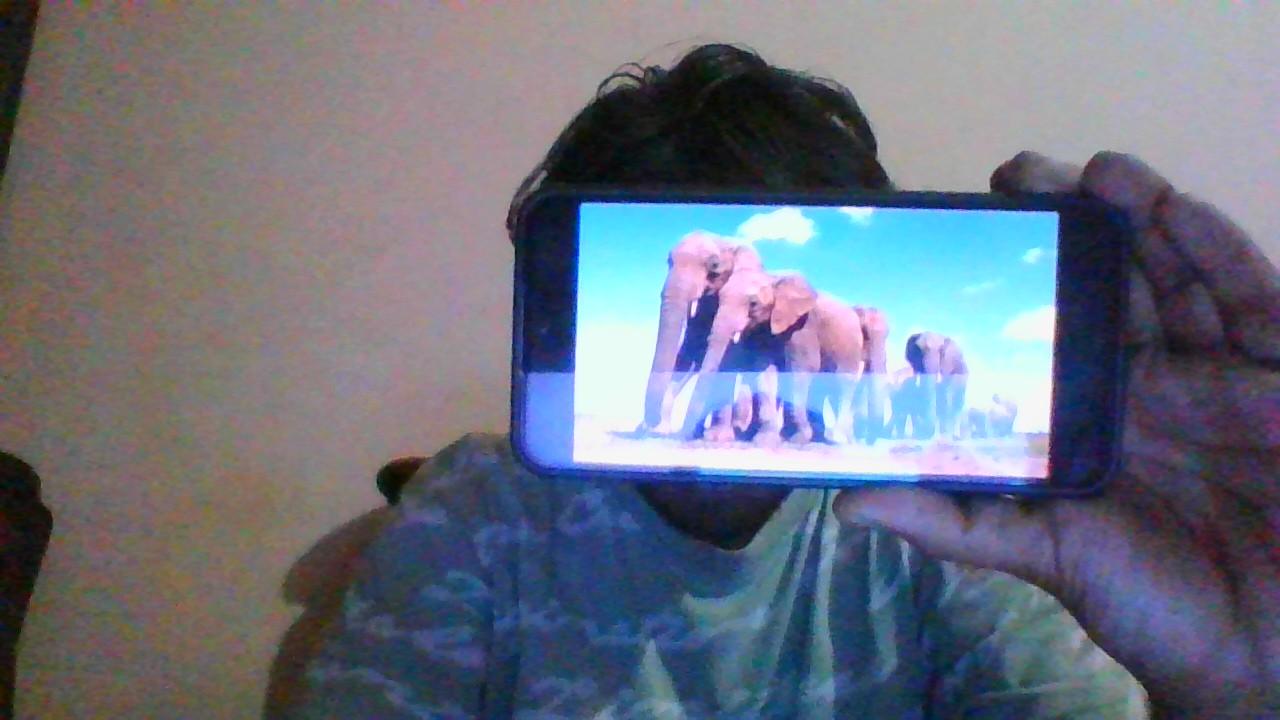elephant: (683, 270, 863, 444), (638, 232, 761, 433), (905, 332, 967, 438), (854, 306, 889, 444), (886, 366, 922, 438), (962, 394, 1017, 438)
